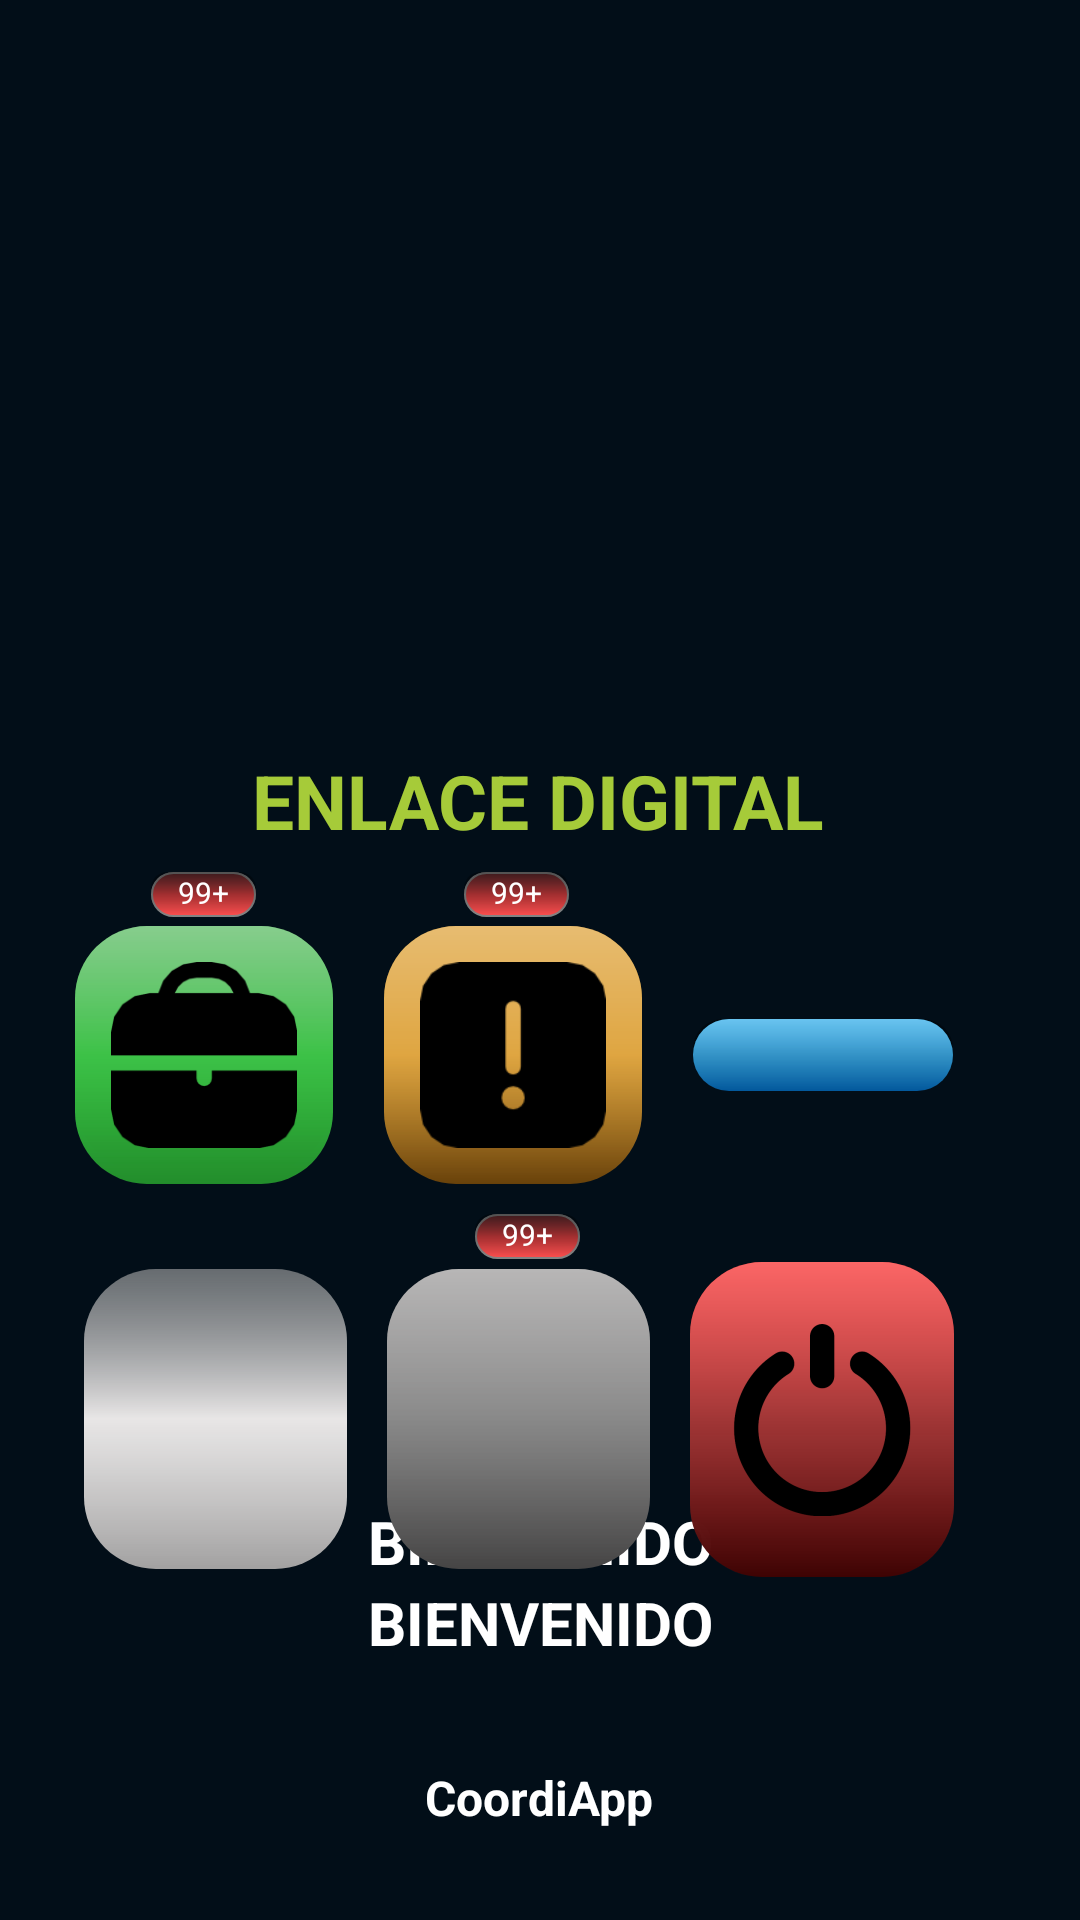

Icon bounding boxes for this 1080x1920 phone screenshot, format (x1, y1, x2, y2):
energia: (690, 1262, 954, 1577)
